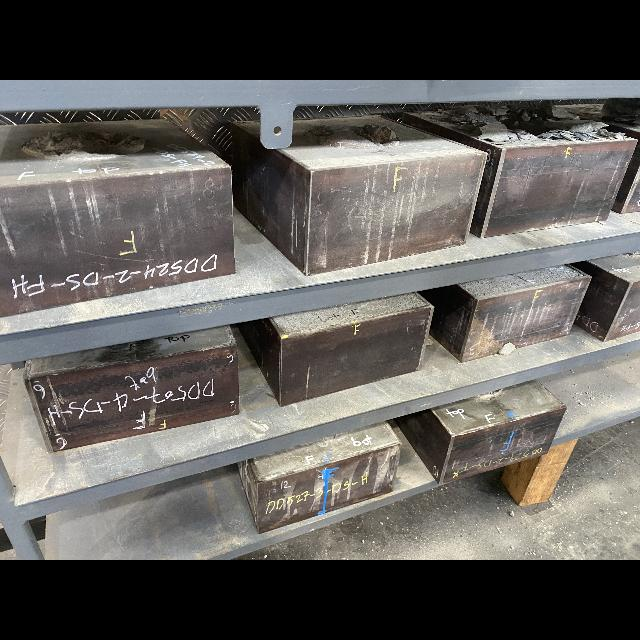Ferrous Metal: (230, 118, 487, 275), (0, 166, 235, 317), (401, 113, 636, 239), (23, 325, 240, 453), (236, 292, 433, 407), (236, 420, 403, 534), (429, 264, 592, 362), (394, 405, 567, 485), (569, 260, 640, 342), (612, 126, 640, 213)
